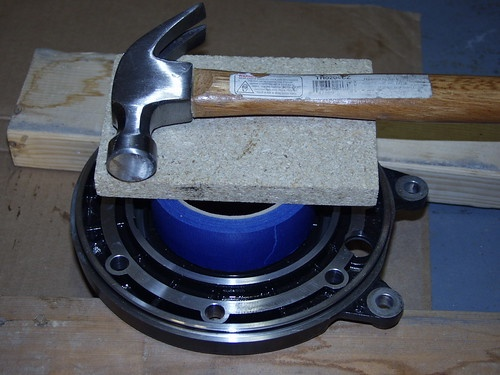hammer: (108, 2, 499, 183)
